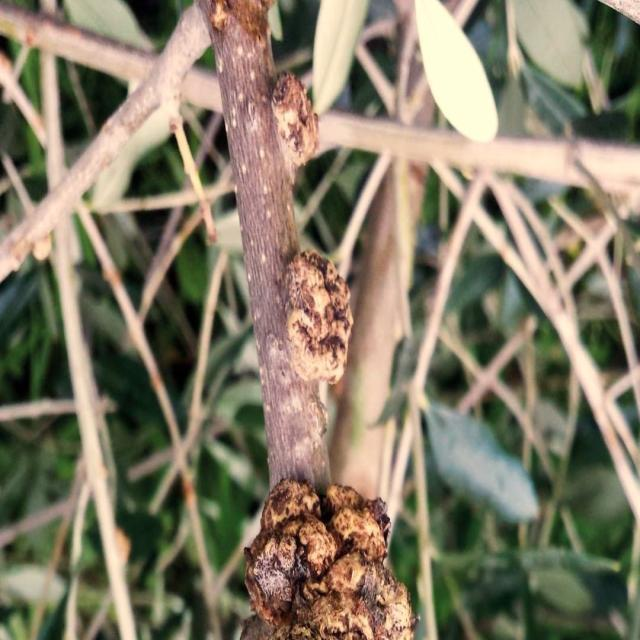Tuberculosis: (245, 479, 419, 639), (285, 251, 361, 385), (271, 72, 326, 185)
